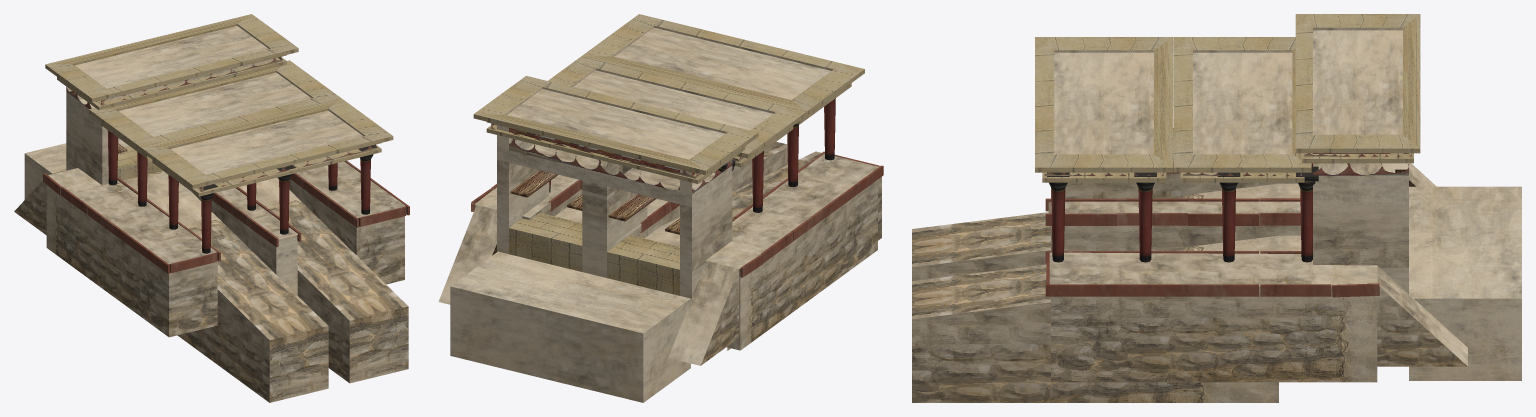
File: mino_dock.dae
3 views of the same model, side by side, from view 1: azimuth 30°, elevation 25°; view 2: azimuth 150°, elevation 25°; view 3: azimuth 270°, elevation 25° (orthographic). The views are drawn at different scales.
Parts seen in each view (by area): view 1: Cube_015.002; view 2: Cube_015.002; view 3: Cube_015.002.
Boxes of the visible parts, x1,y1,x2,y2 form: Cube_015.002: (14, 14, 409, 402); Cube_015.002: (438, 14, 883, 402); Cube_015.002: (912, 14, 1521, 402).
Size of the model in its own units: 22.81 by 37.28 by 18.65.
